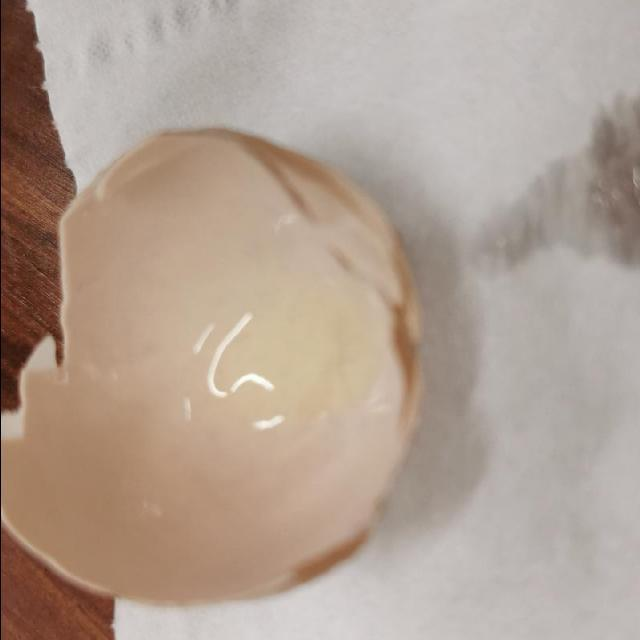egg shell: (0, 124, 427, 606)
